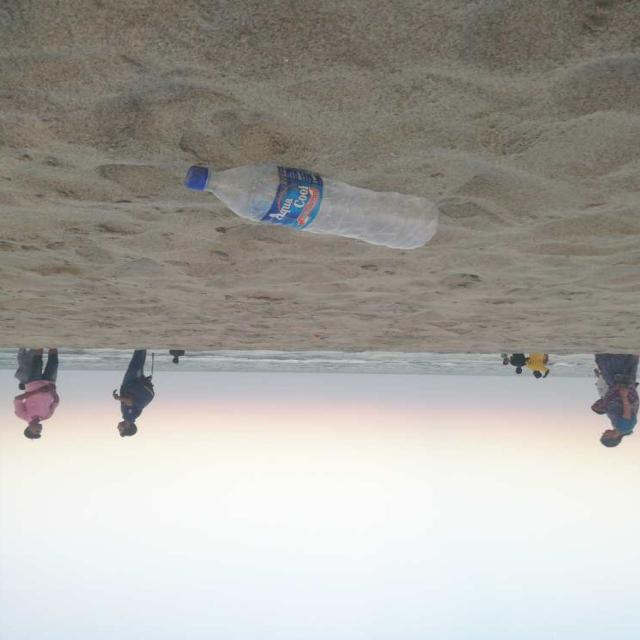chai_nhua: (187, 163, 439, 249)
